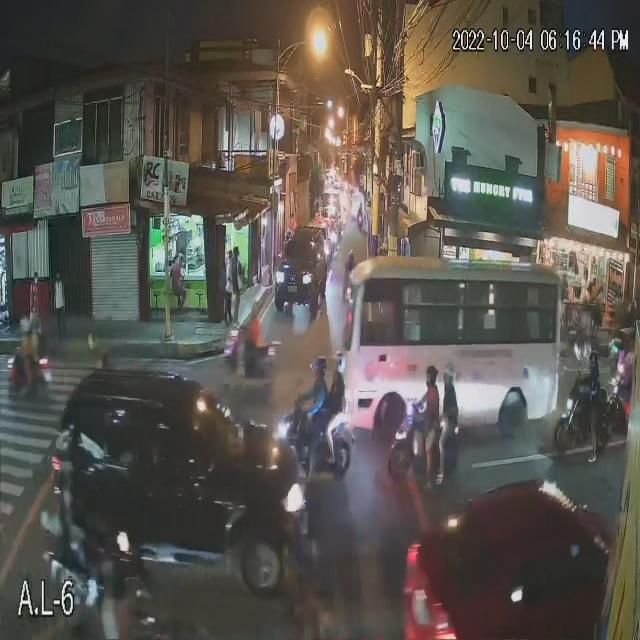helmet: (329, 355, 349, 372), (442, 369, 459, 382), (420, 370, 438, 381), (310, 359, 325, 370)
motorcycle: (388, 425, 463, 474), (279, 419, 342, 474), (556, 404, 622, 446), (4, 355, 57, 401), (224, 343, 275, 386)
rider: (587, 368, 603, 461), (442, 392, 457, 464), (425, 392, 434, 470), (20, 337, 34, 387), (314, 377, 322, 444), (333, 380, 341, 444)
